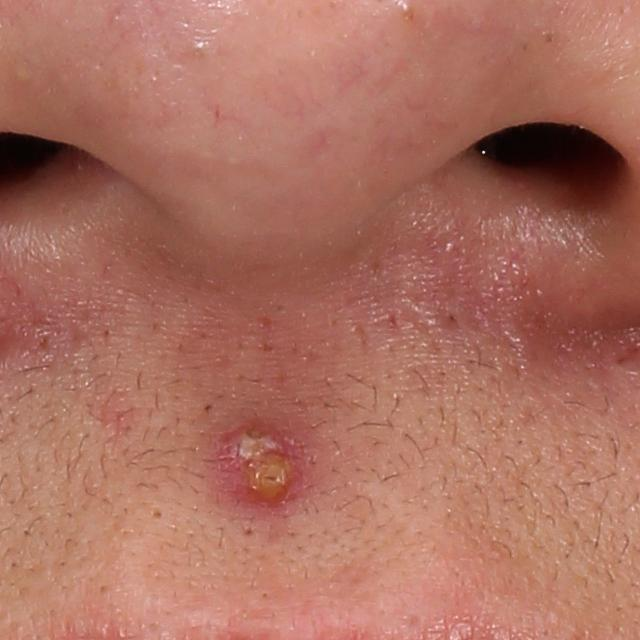comedo: (147, 506, 164, 521)
pustule: (220, 409, 308, 507)
